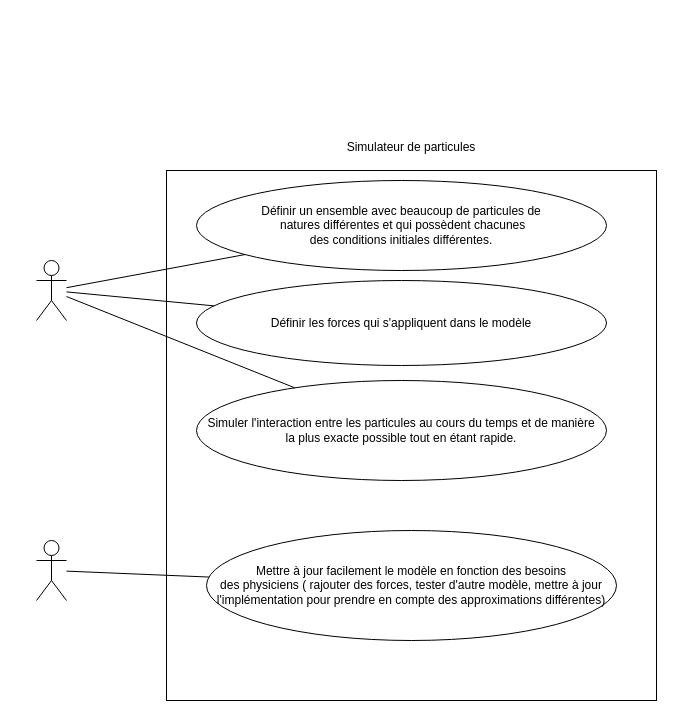
Image size: 674x718. Some labels were removed from this diagram. The shapes that lost their labels are listed below. From the top down, each one's centre as x and y in pixels, then its label:
At pixel 51 290: "Physicien".
At pixel 51 570: "Développeur".
